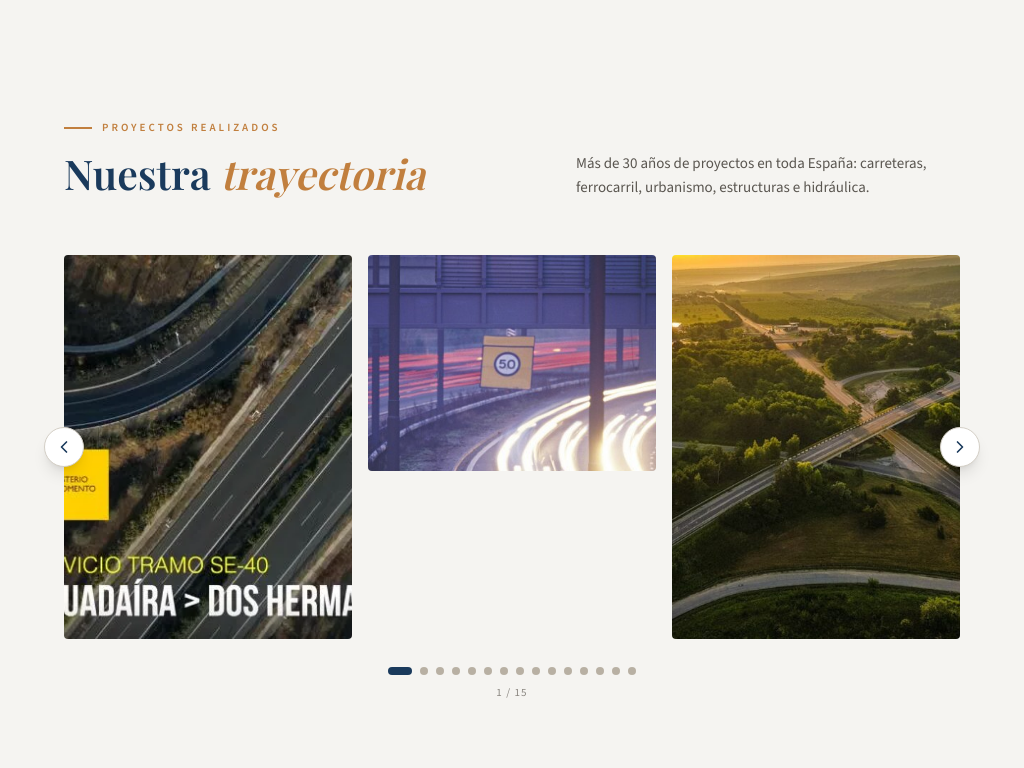
Test: Gallery › clicking "Siguiente" advances to next photo
This screenshot has width=1024, height=768.
Click the button named "Siguiente". click: (960,447)
box: left=940, top=427, right=980, bottom=467
Wait 300 ms
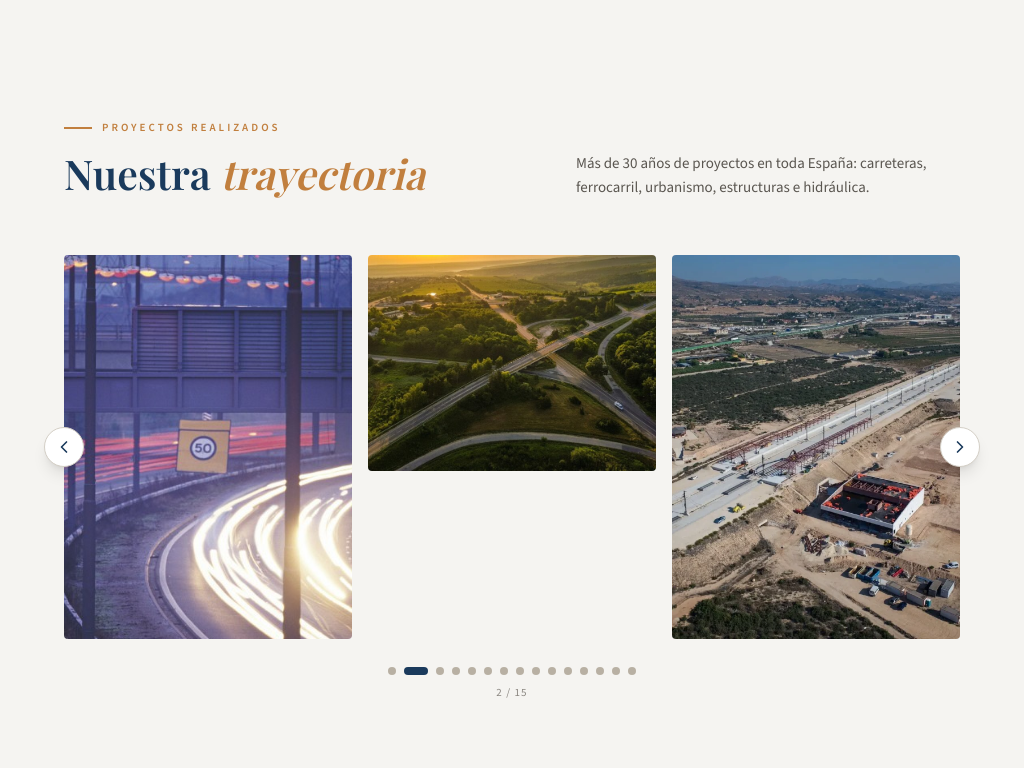
Check: the text "2 / 15" is shown, box left=496, top=685, right=528, bottom=700
